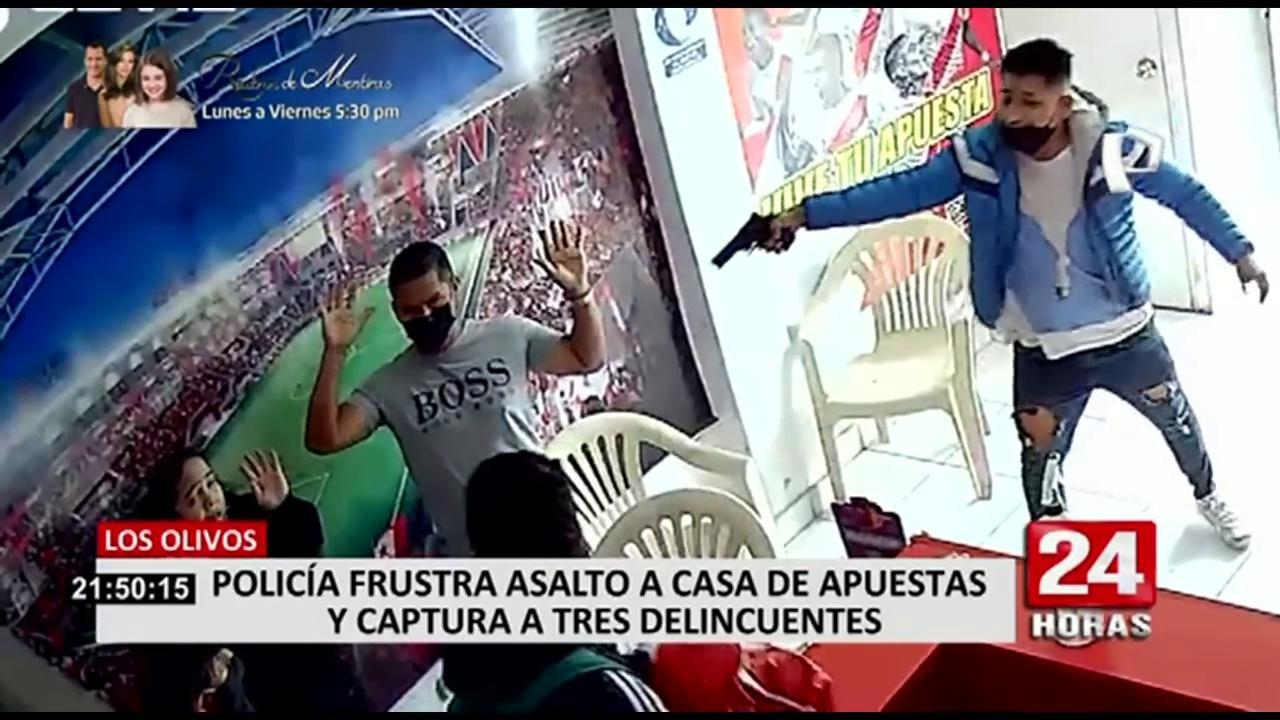Guns perspective: (705, 190, 802, 285)
